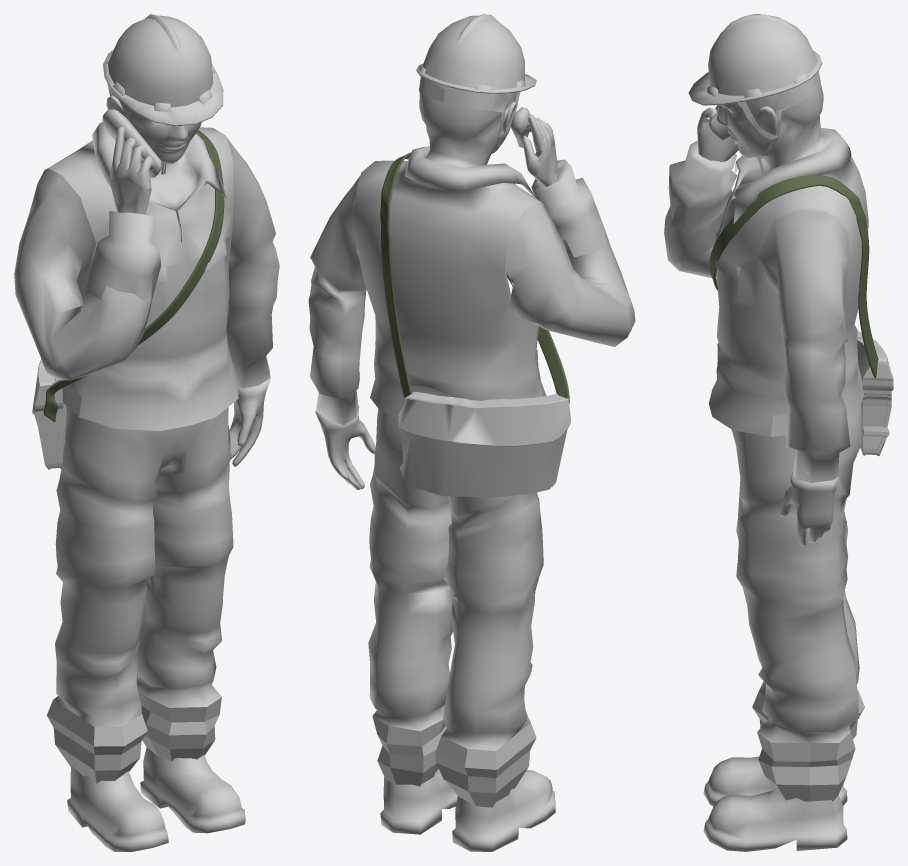
The model's file is dadianhua.gltf.
3 renders of one model, left to right at view 1: azimuth 30°, elevation 25°; view 2: azimuth 150°, elevation 25°; view 3: azimuth 270°, elevation 25°, orthographic.
Parts seen in each view (by area): view 1: 2, 2_2; view 2: 2, 2_2; view 3: 2, 2_2.
Part boxes in pixels (left/top/right/bottom): 2: left=14, top=14, right=279, bottom=851; 2_2: left=32, top=130, right=224, bottom=469; 2: left=308, top=14, right=635, bottom=851; 2_2: left=380, top=152, right=570, bottom=497; 2: left=664, top=14, right=868, bottom=851; 2_2: left=709, top=175, right=893, bottom=456.
Size of the model in its own units: 0.6237 by 1.73 by 0.4467.
